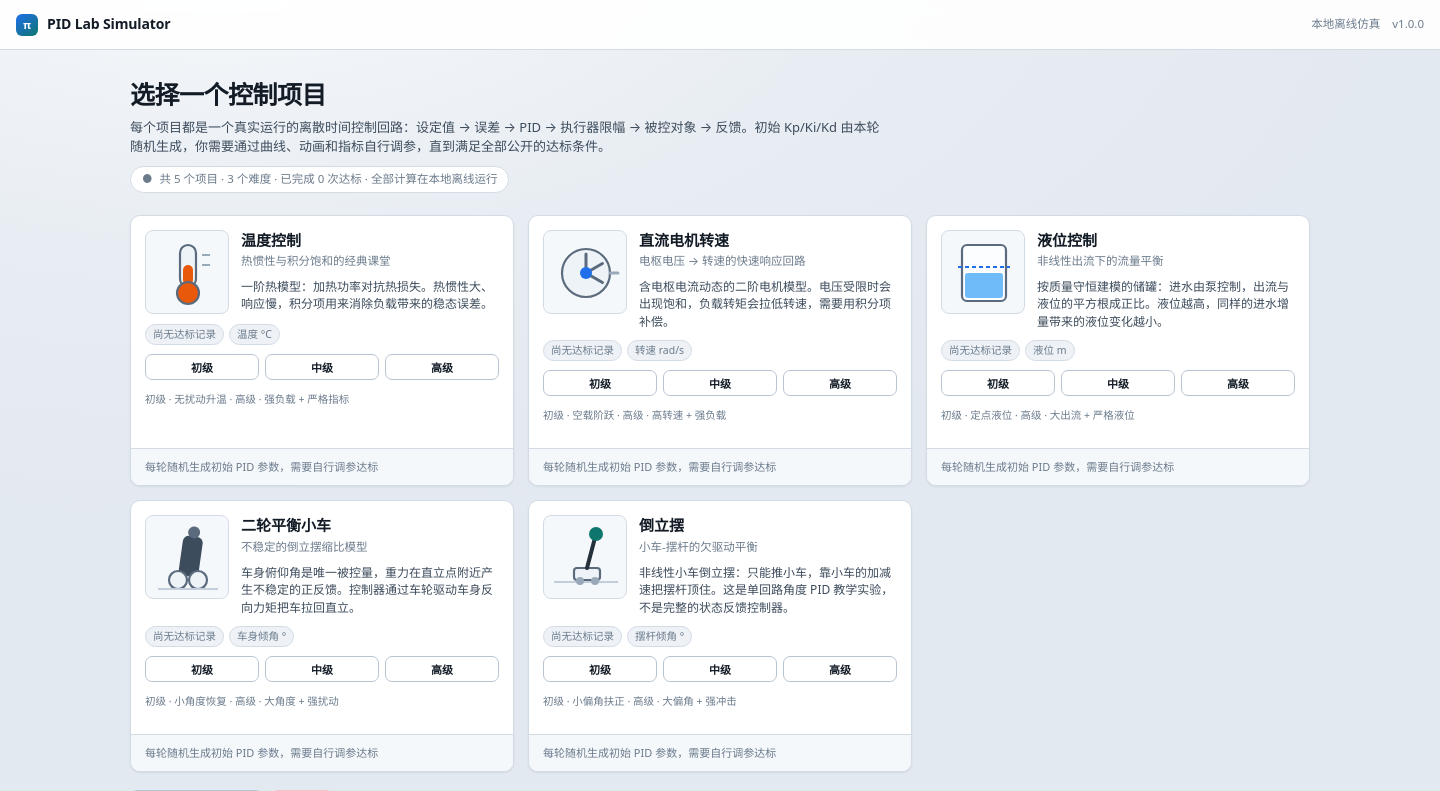
application flow › returning to the lobby unmounts the lab
This screenshot has width=1440, height=791.
Click the button with test id "start-temperature-beginner".
click(202, 367)  # box [145,354,259,380]
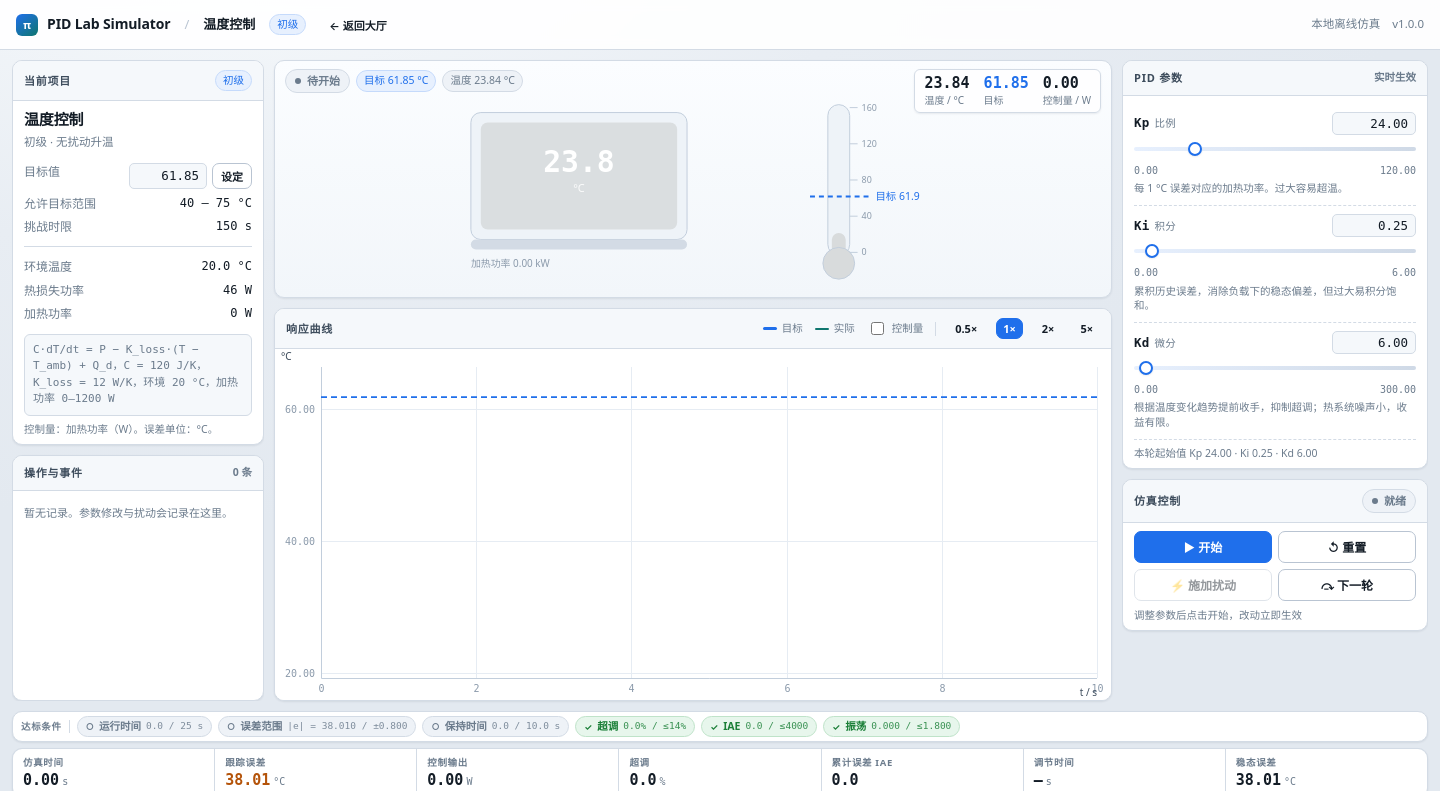
Check: the button with test id "btn-start" is enabled, box [1134,531,1272,563]
Click the button with test id "btn-back".
click(358, 24)  # box [320,12,396,38]
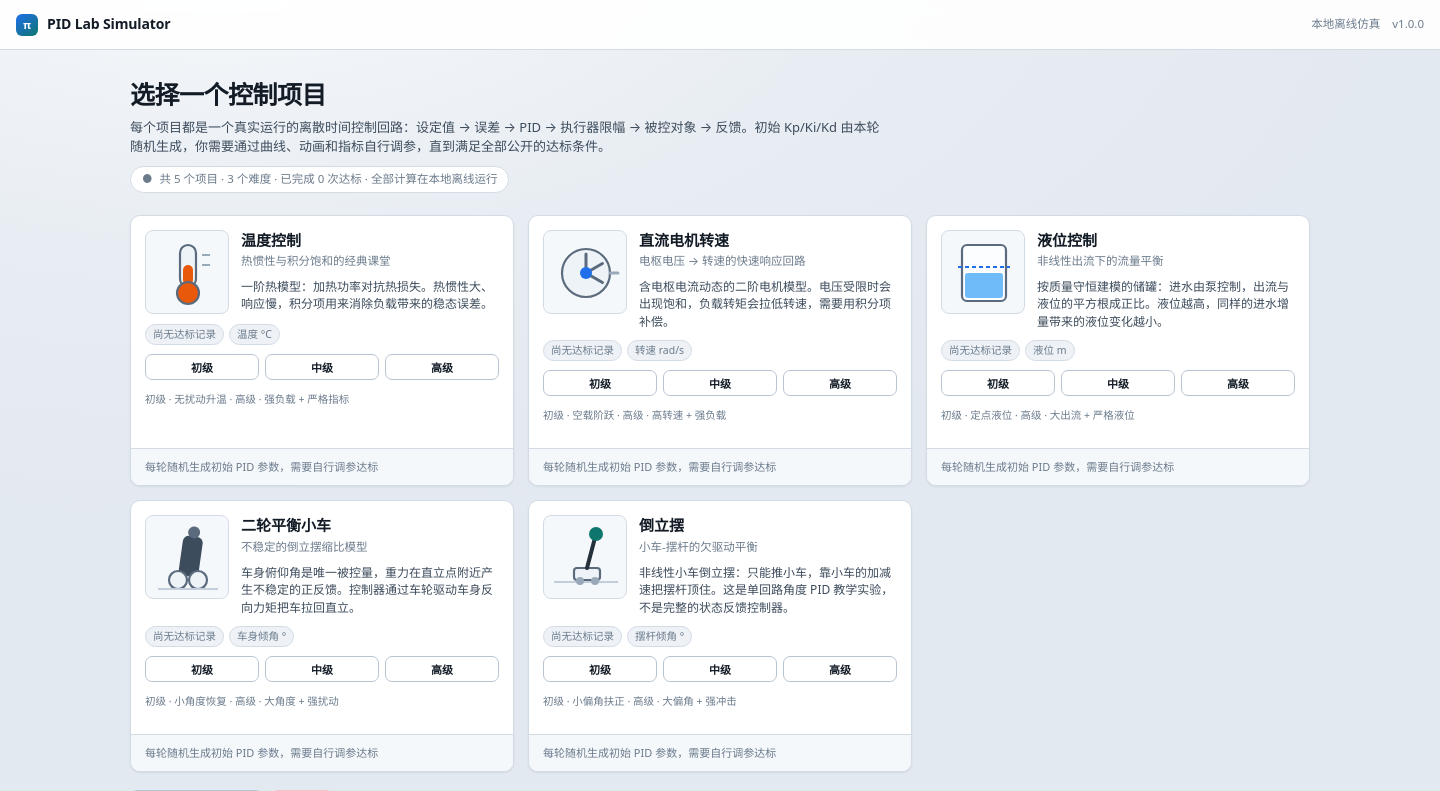
Check: the element with test id "card-temperature" is shown, box [130,215,514,486]
Check: the button with test id "btn-start" is gone
